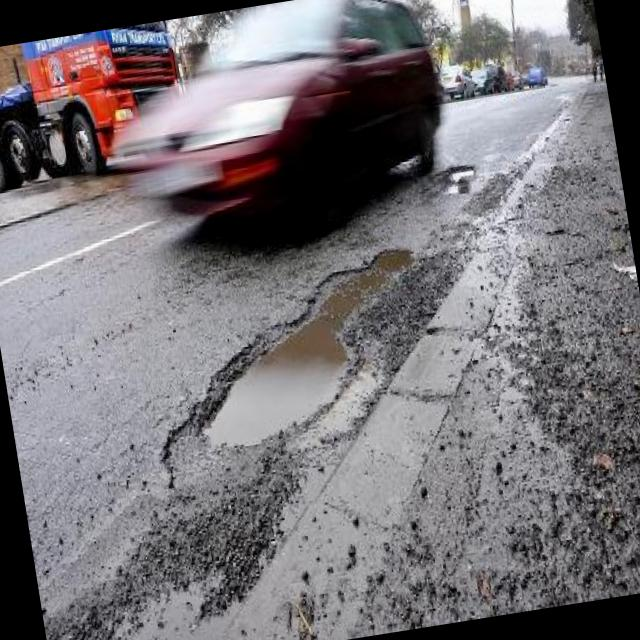Lubang: (163, 253, 411, 488), (433, 165, 476, 195)
